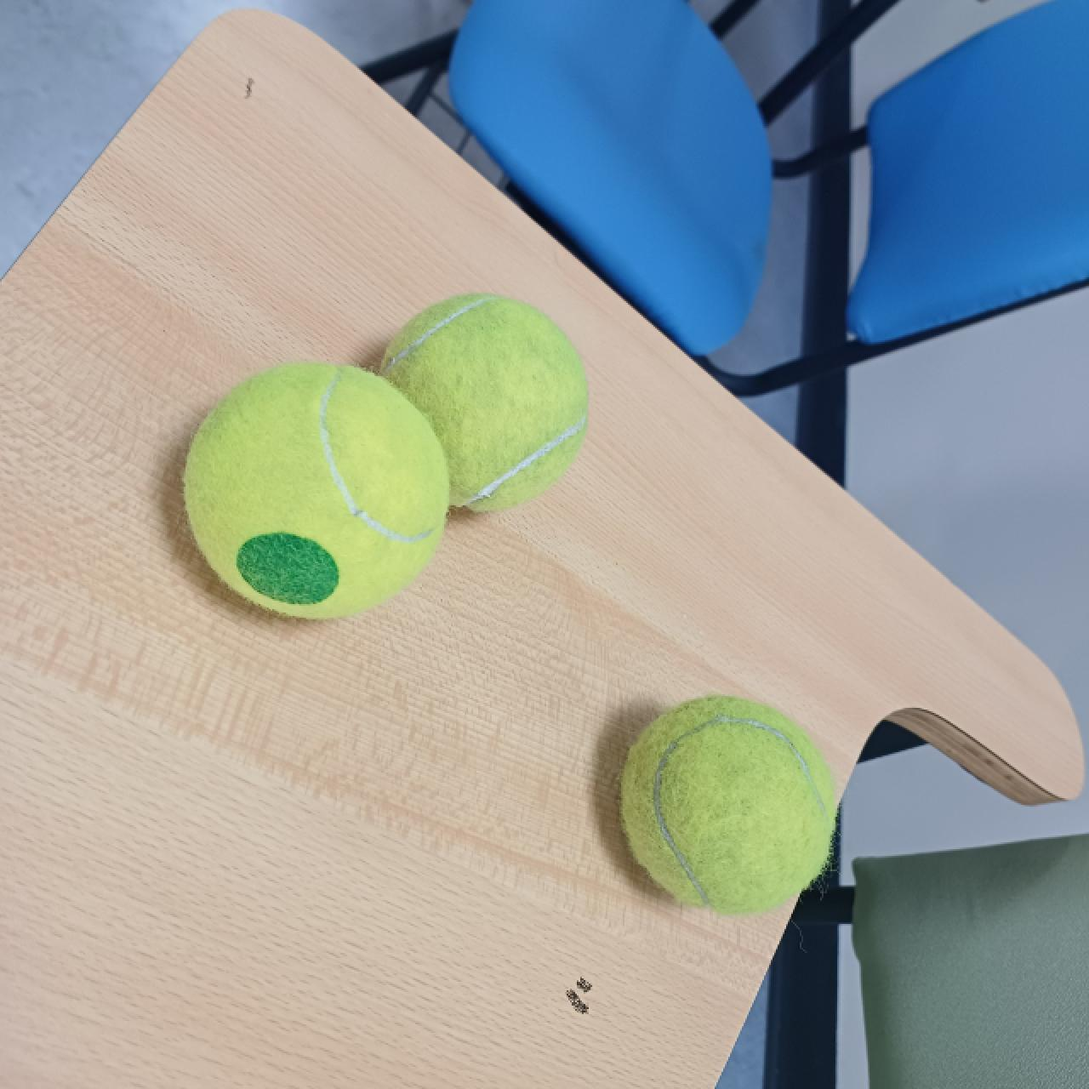tennis-ball: (182, 359, 450, 623), (369, 290, 591, 516), (615, 692, 835, 913)
